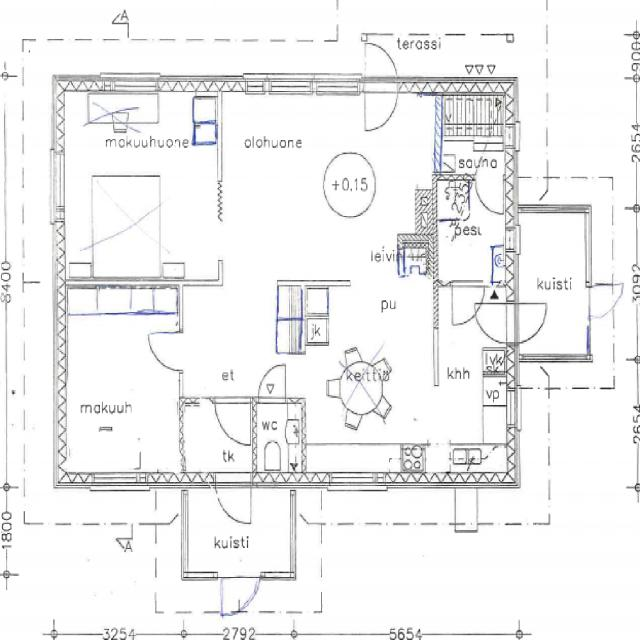door: (215, 473, 250, 533), (220, 571, 258, 624), (504, 303, 552, 344), (471, 303, 518, 344), (364, 74, 397, 132), (364, 34, 397, 92), (215, 398, 250, 447), (452, 280, 484, 325), (146, 332, 182, 370), (474, 174, 504, 215), (584, 286, 618, 320), (259, 365, 286, 404)
